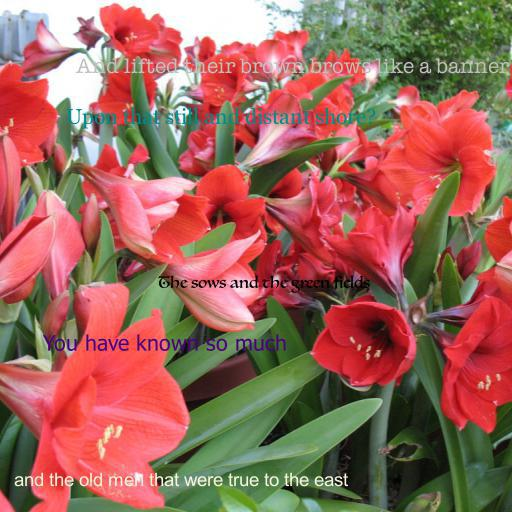American Typewriter: (75, 58, 509, 74)
Arial: (14, 472, 348, 487)
Georgia: (66, 107, 376, 129)
Luminari: (158, 275, 370, 293)
Tahoma: (43, 334, 287, 351)
